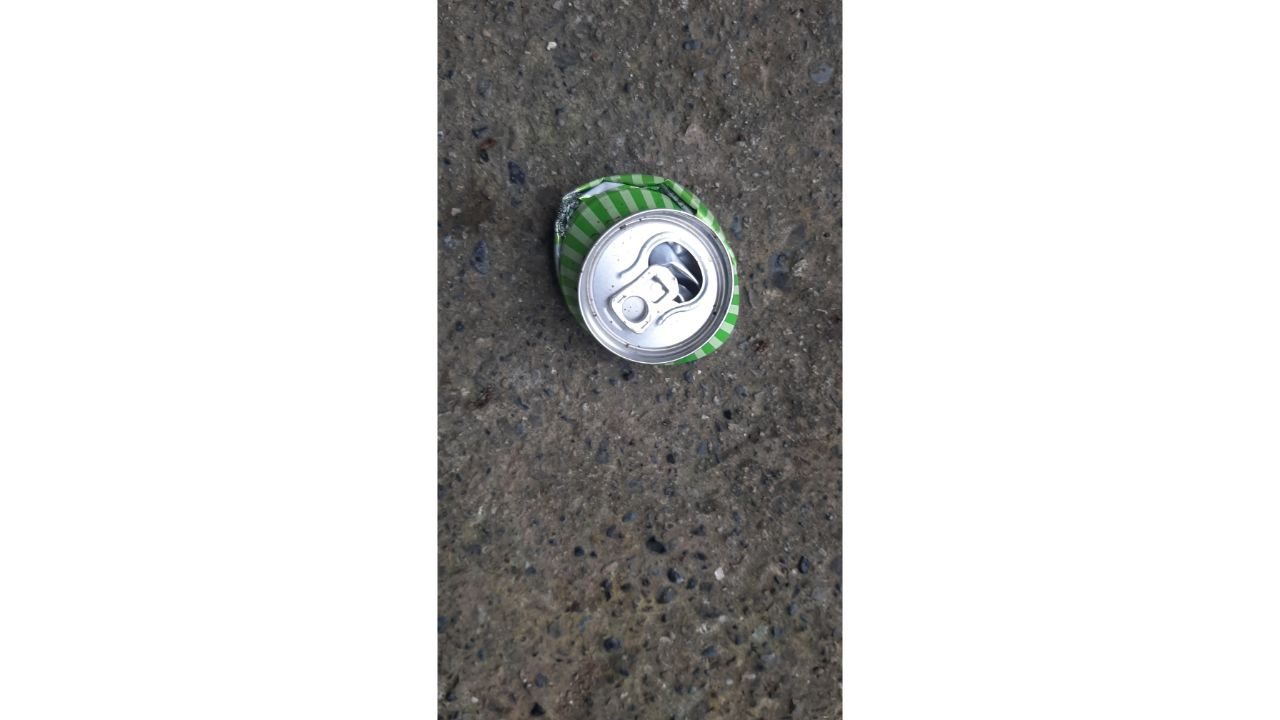Can: (552, 172, 740, 367)
